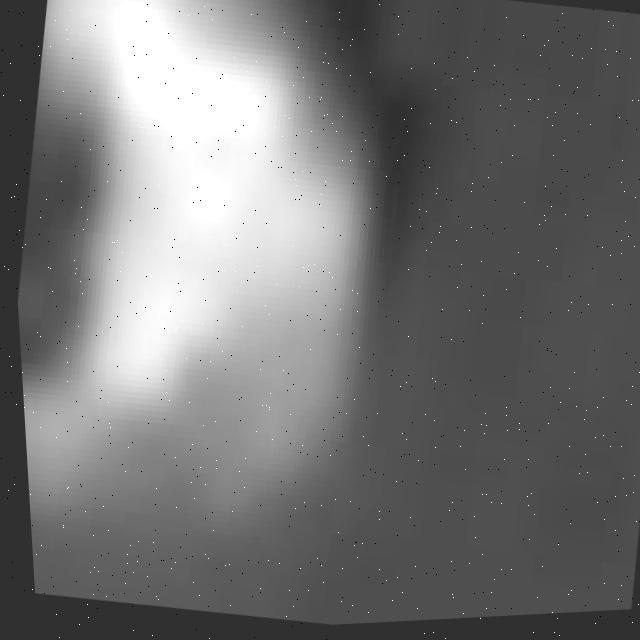person: (1, 1, 442, 627)
